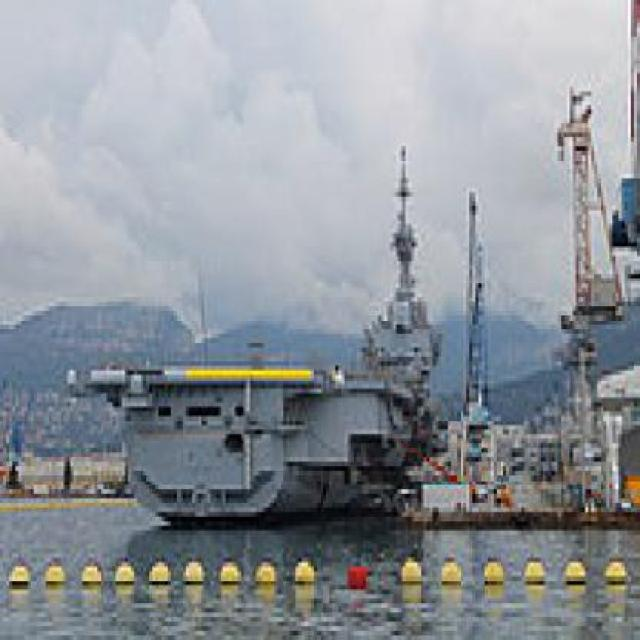warship2: (114, 97, 443, 559)
